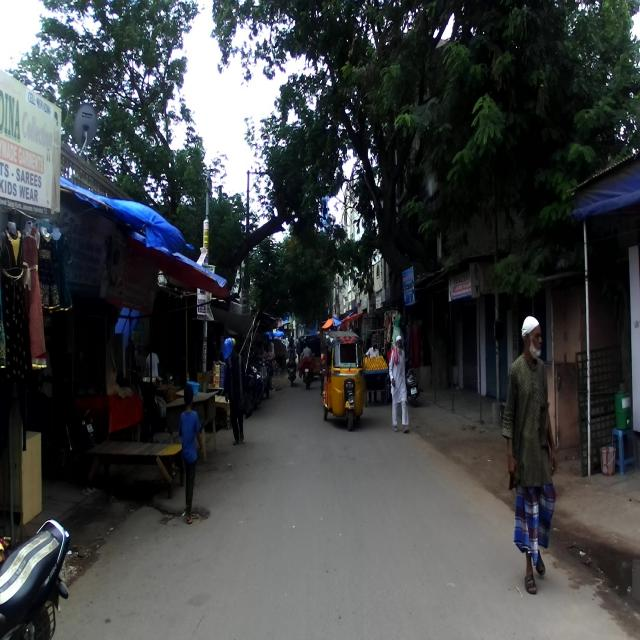autorickshaw: (319, 321, 373, 436)
motorcycle: (0, 513, 70, 639)
